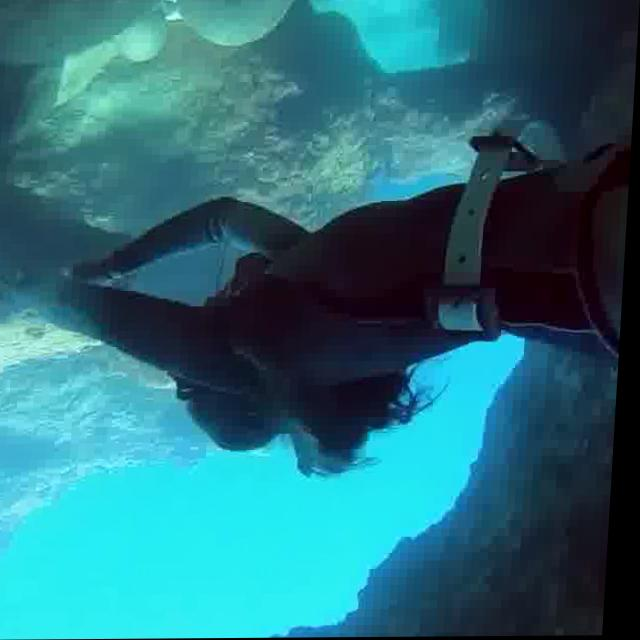human: (23, 0, 640, 478)
